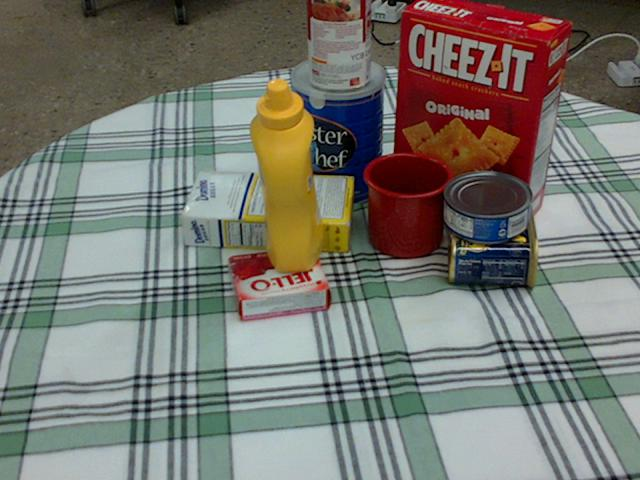cracker_box: (391, 0, 573, 227)
gelatin_box: (230, 247, 331, 320)
master_chef_can: (290, 55, 384, 206)
mug: (364, 151, 455, 257)
mustard_bottle: (249, 77, 322, 271)
potted_meat_can: (448, 194, 537, 284)
sugar_box: (179, 169, 354, 251)
tomato_soup_can: (307, 0, 372, 91)
tuna_fish_can: (443, 172, 532, 242)
